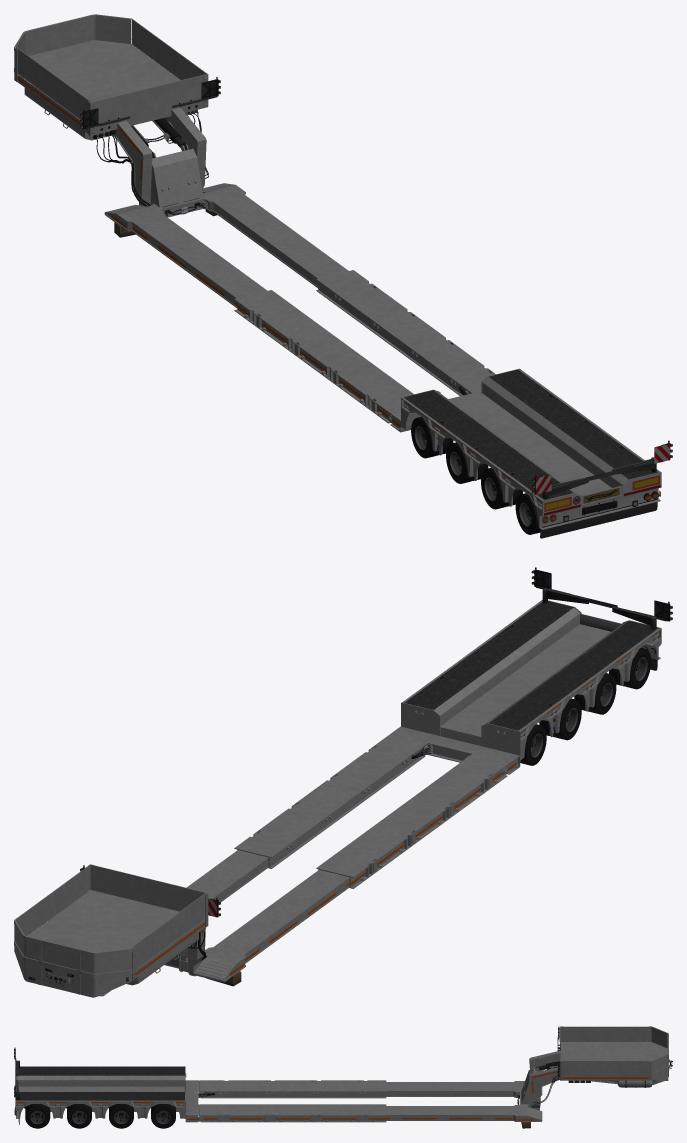
Rendered from lowloader.glb.
3 renders of one model, top to bottom at view 1: azimuth 30°, elevation 25°; view 2: azimuth 150°, elevation 25°; view 3: azimuth 270°, elevation 25°, orthographic. The views are drawn at different scales.
Parts seen in each view (by area): view 1: piece_1, piece_2, piece_0.004, piece_14, piece_6, piece_4, piece_1.001; view 2: piece_1, piece_2, piece_0.004, piece_14, piece_6, piece_4, piece_3.003, piece_3.001, piece_3.002; view 3: piece_1, piece_2, piece_0.004, piece_4, piece_6, piece_7.001, piece_7.004, piece_7.003, piece_7.002, piece_14.
Part boxes in pixels (<box>): piece_1: <box>14,14,661,529</box>; piece_2: <box>404,369,657,500</box>; piece_0.004: <box>16,19,207,123</box>; piece_14: <box>80,77,672,499</box>; piece_6: <box>24,88,622,504</box>; piece_4: <box>17,77,660,515</box>; piece_1.001: <box>540,499,657,538</box>; piece_1: <box>14,600,661,997</box>; piece_2: <box>404,601,658,730</box>; piece_0.004: <box>15,864,206,969</box>; piece_14: <box>80,567,672,917</box>; piece_6: <box>45,613,621,986</box>; piece_4: <box>135,632,658,975</box>; piece_3.003: <box>539,698,581,740</box>; piece_3.001: <box>609,647,651,689</box>; piece_3.002: <box>574,673,616,714</box>; piece_1: <box>15,1026,668,1122</box>; piece_2: <box>15,1067,184,1100</box>; piece_0.004: <box>560,1026,651,1075</box>; piece_4: <box>16,1071,648,1120</box>; piece_6: <box>198,1048,669,1120</box>; piece_7.001: <box>25,1104,50,1128</box>; piece_7.004: <box>151,1104,175,1128</box>; piece_7.003: <box>109,1104,133,1128</box>; piece_7.002: <box>67,1104,91,1128</box>; piece_14: <box>14,1026,560,1099</box>.
Size of the model in its own units: 3.02 by 2.32 by 20.33.
23 materials, 23 textured.
